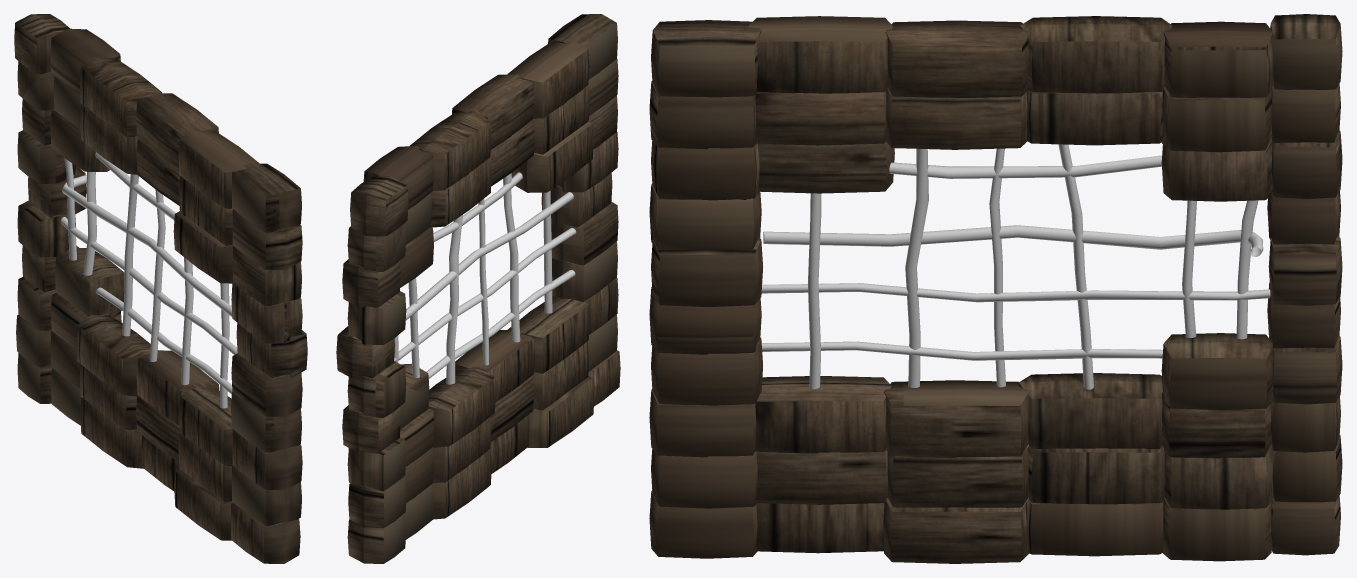
The model's file is ParedAjugeroTecho.fbx.
3 renders of one model, left to right at view 1: azimuth 30°, elevation 25°; view 2: azimuth 150°, elevation 25°; view 3: azimuth 270°, elevation 25°, orthographic. The views are drawn at different scales.
Parts seen in each view (by area): view 1: Pared_Piedra008, Object134; view 2: Pared_Piedra008, Object134; view 3: Pared_Piedra008, Object134.
Part boxes in pixels (<box>): Pared_Piedra008: <box>14,14,307,563</box>; Object134: <box>61,152,237,408</box>; Pared_Piedra008: <box>336,14,620,563</box>; Object134: <box>394,172,576,384</box>; Pared_Piedra008: <box>649,14,1342,563</box>; Object134: <box>761,144,1270,389</box>.
Size of the model in its own units: 70.25 by 444 by 531.
